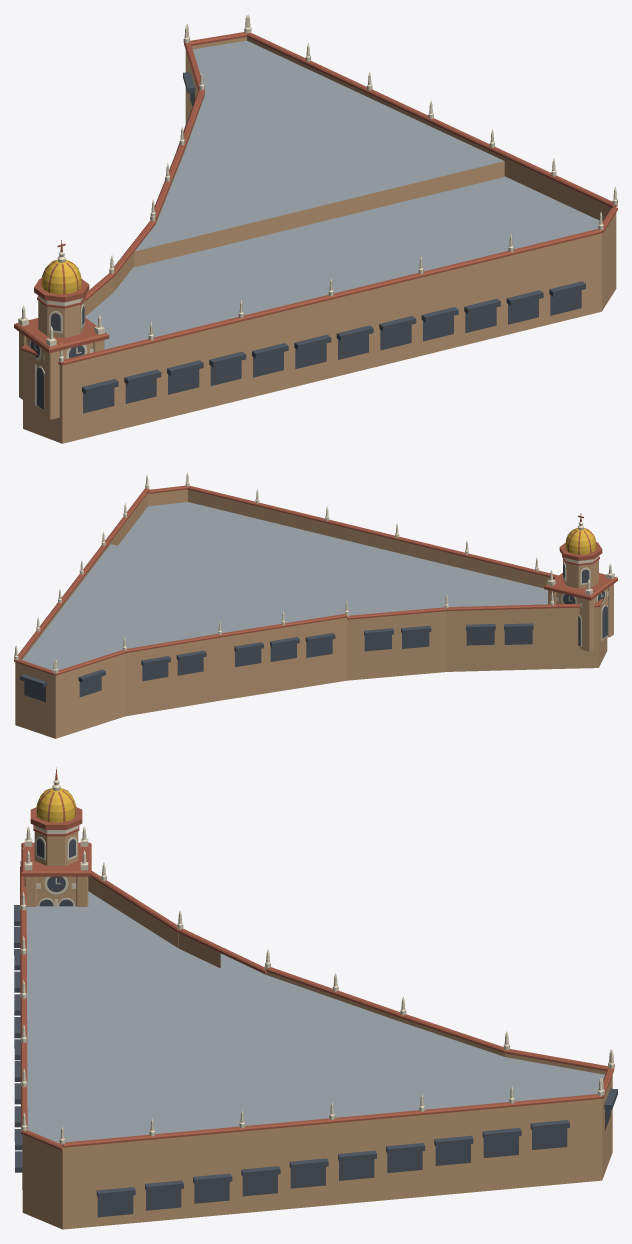
File: kc-plaza-triangle-tower.glb
3 renders of one model, top to bottom at view 1: azimuth 30°, elevation 25°; view 2: azimuth 150°, elevation 25°; view 3: azimuth 270°, elevation 25°, orthographic. The views are drawn at different scales.
Visible parts, largest first — view 1: Triangle Building Clock Tower; view 2: Triangle Building Clock Tower; view 3: Triangle Building Clock Tower.
Boxes of the visible parts, x1,y1,x2,y2 form: Triangle Building Clock Tower: (14,14,617,443); Triangle Building Clock Tower: (14,472,617,738); Triangle Building Clock Tower: (14,767,617,1229).
Size of the model in its own units: 62.58 by 18.98 by 55.08.
